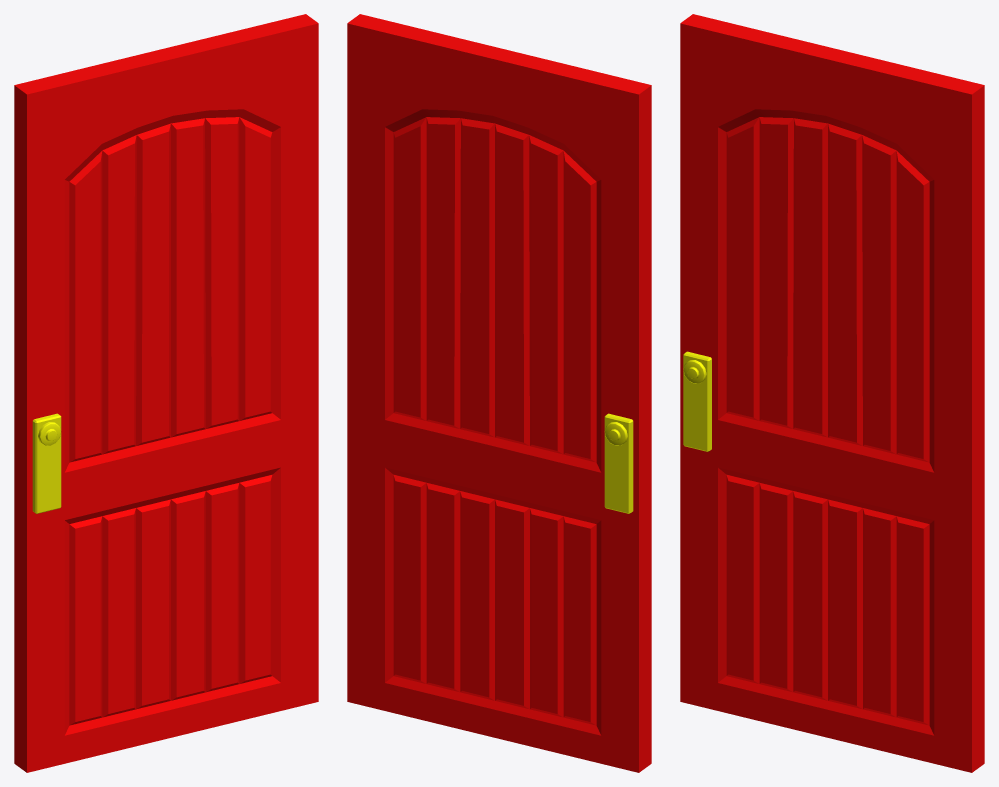
File: doorway_door_9.glb
3 renders of one model, left to right at view 1: azimuth 30°, elevation 25°; view 2: azimuth 150°, elevation 25°; view 3: azimuth 330°, elevation 25°, orthographic.
Parts seen in each view (by area): view 1: doorway_door_9; view 2: doorway_door_9; view 3: doorway_door_9.
Boxes of the visible parts, x1,y1,x2,y2 form: doorway_door_9: (14, 14, 318, 772); doorway_door_9: (347, 14, 651, 772); doorway_door_9: (680, 14, 984, 772).
Bounding box in the file's own units: 0.9145 × 2.03 × 0.1416.
